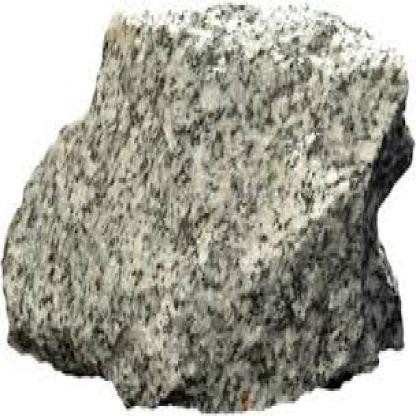Sedimentary_Chalk: (122, 22, 372, 376)
